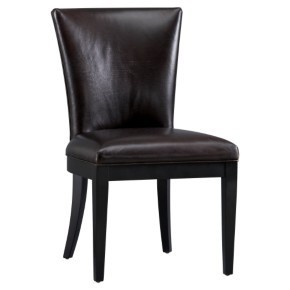obstacle: (52, 8, 238, 281)
